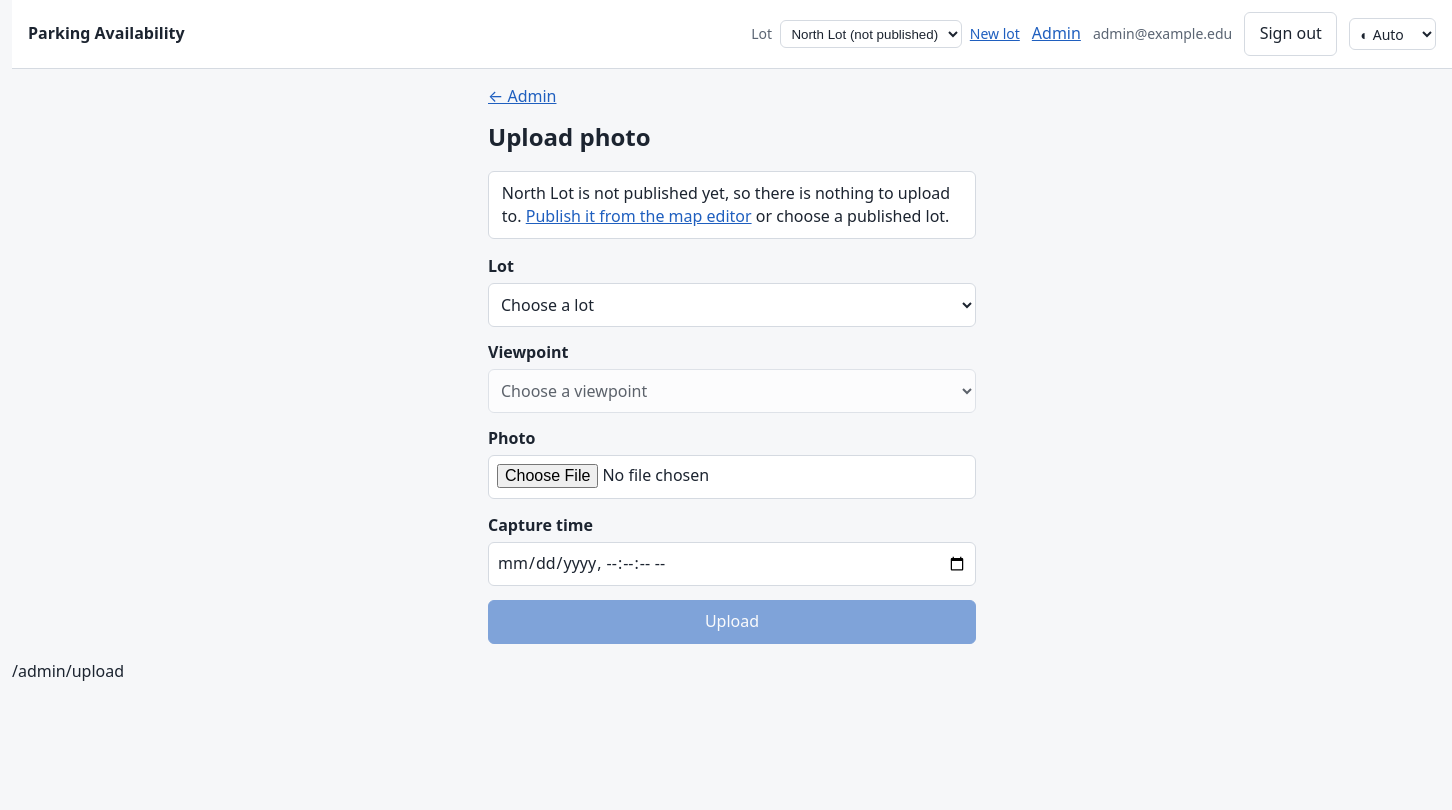
Scenario: US-16 #3: lot picker on every admin page › Upload says an unpublished picked lot has nothing to upload to
Expected: the text "North Lot is not published yet, so there is nothing to upload to" is shown, [488,171,976,239]
Expected: the dropdown named "Lot picker" shows "North Lot (not published)", [780,20,962,48]
Select "Test Lot" in the dropdown labelled "Lot" at (732, 304), box [488,282,976,326]
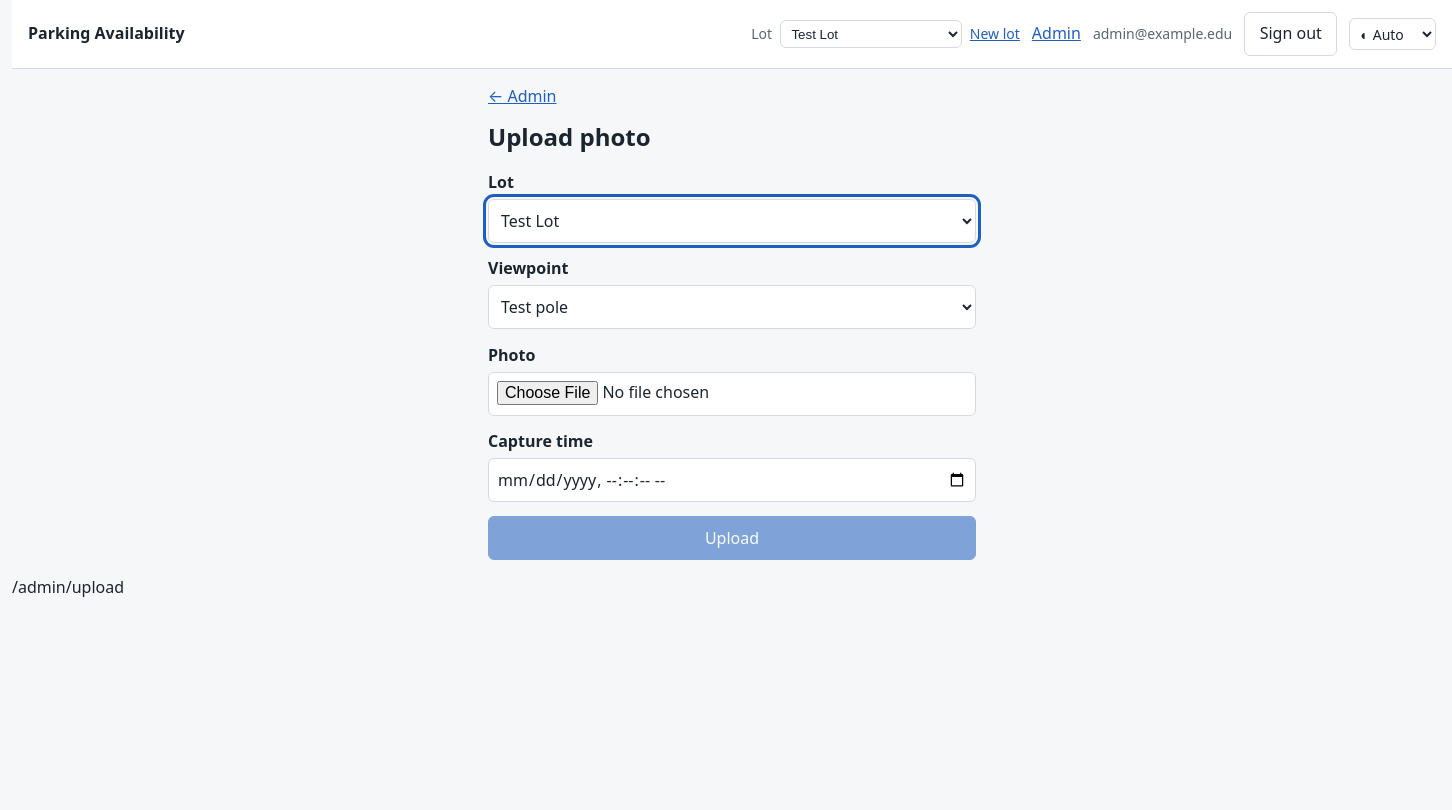
Expected: the text "is not published yet" is gone
